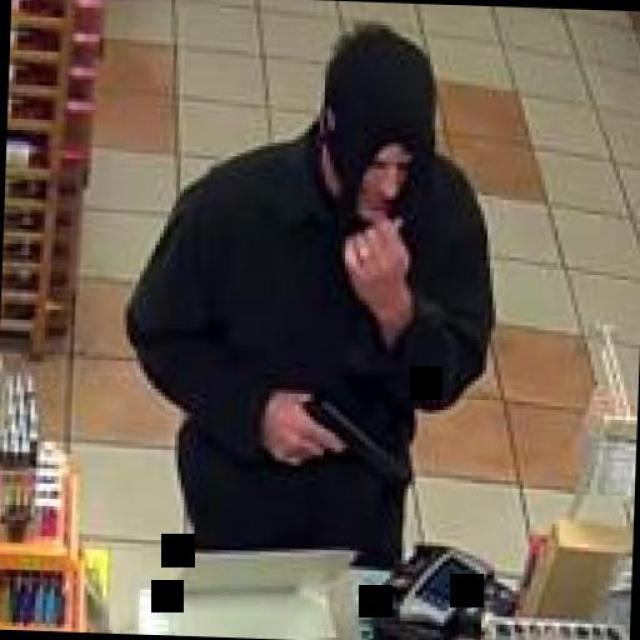gun: (278, 385, 400, 473)
